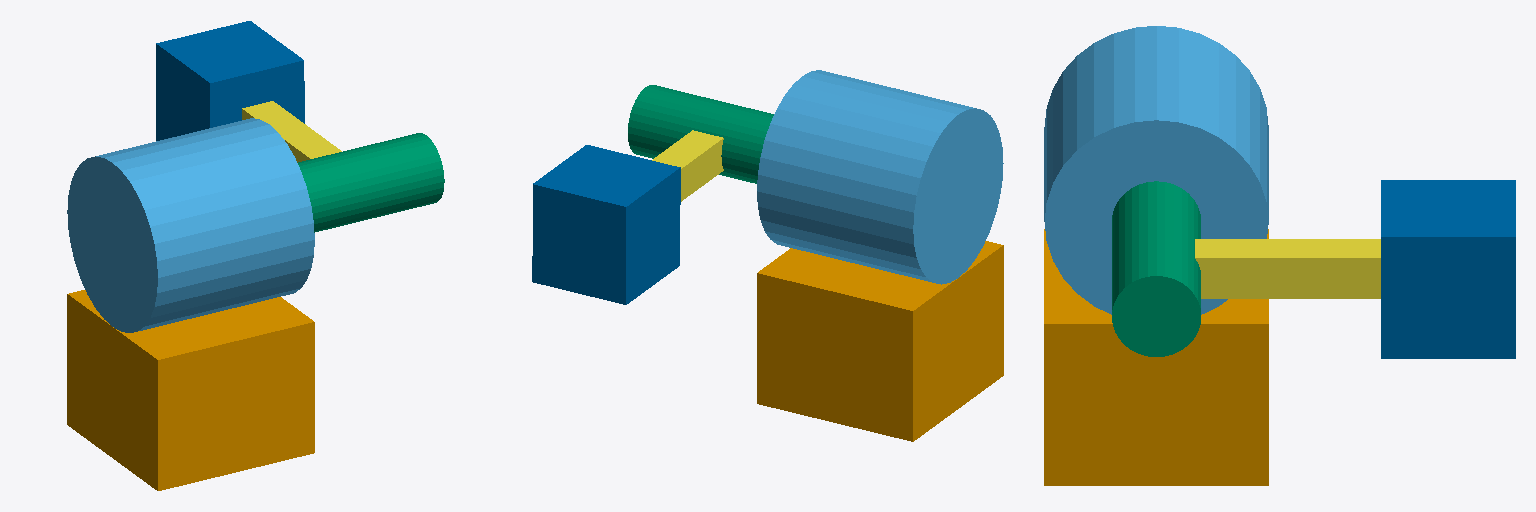
The robot description file, URDF, robot "taufinder":
<?xml version="1.0"?>
<robot name="taufinder">

<link name="base_link">
	<pose> 0 0 0 0 0 0</pose>
        <visual>
          <origin xyz="0 0 0.2" rpy="0 0 0" />
          <geometry>
            	<box size="0.5 0.5 0.4"/>
          </geometry>
        </visual>
        <inertial>
           	<mass value="3" />
            	<origin xyz="0 0 0.5" rpy="0 0 0" />
            	<inertia ixx="0.1025" iyy="0.125" izz="0.1025" ixy="0" ixz="0" iyz="0"/>
       </inertial>
      </link>

<link name="motor">
	<pose> 0 0 0 0 0 0</pose>
        <visual>
          <origin xyz="0 0 0" rpy="0 0 0" />
          <geometry>
            	<cylinder length="0.5" radius="0.25"/>
          </geometry>
        </visual>
        <inertial>
           	<mass value="1" />
            	<origin xyz="0 0 0.5" rpy="0 0 0" />
            	<inertia ixx="0.0364583" iyy="0.03645833" izz="0.03125" ixy="0" ixz="0" iyz="0"/>
       </inertial>
      </link>

<link name="motor_axis">
	<pose> 0 0 0 0 0 0</pose>
        <visual>
          <origin xyz="0 0 0" rpy="0 0 0" />
          <geometry>
            	<cylinder length="0.5" radius="0.1"/>
          </geometry>
        </visual>
        <inertial>
           	<mass value="0.2" />
            	<origin xyz="0 0 0.5" rpy="0 0 0" />
            	<inertia ixx="0.004666666" iyy="0.0046666" izz="0.001" ixy="0" ixz="0" iyz="0"/>
       </inertial>
      </link>

<link name="motor_rod">
	<pose> 0 0 0 0 0 0</pose>
        <visual>
          <origin xyz="0 0 0" rpy="0 0 0" />
          <geometry>
            	<box size="0.1 0.5 0.1"/>
          </geometry>
        </visual>
        <inertial>
           	<mass value="0.1" />
            	<origin xyz="0 0 0.5" rpy="0 0 0" />
            	<inertia ixx="0.0021666" iyy="0.0021666" izz="0.0001666" ixy="0" ixz="0" iyz="0"/>
       </inertial>
      </link>

<link name="motor_load">
	<pose> 0 0 0 0 0 0</pose>
        <visual>
          <origin xyz="0 0 0" rpy="0 0 0" />
          <geometry>
            	<box size="0.3 0.3 0.3"/>
          </geometry>
        </visual>
        <inertial>
           	<mass value="2" />
            	<origin xyz="0 0 0.5" rpy="0 0 0" />
            	<inertia ixx="0.03" iyy="0.03" izz="0.03" ixy="0" ixz="0" iyz="0"/>
       </inertial>
      </link>

<joint name ="motor" type="fixed">
        <origin xyz="0 0 0.650" rpy="0 1.57 0"/>
        <parent link="base_link"/>
        <child link="motor"/>
</joint>

<joint name ="motor_axis_joint" type="continuous">
        <origin xyz="0 0 0.5" rpy="0 0 0"/>
        <parent link="motor"/>
        <child link="motor_axis"/>
</joint>

<joint name ="motor_rod" type="fixed">
        <origin xyz="0 0.25 0" rpy="0 0 0"/>
        <parent link="motor_axis"/>
        <child link="motor_rod"/>
</joint>

<joint name ="motor_load" type="fixed">
        <origin xyz="0 0.4 0" rpy="0 0 0"/>
        <parent link="motor_rod"/>
        <child link="motor_load"/>
</joint>


</robot>

--- What the picture shows (computed from the rendered views, not written in the file) ---
The picture shows the robot from 3 angles, left to right: view 1: azimuth 30°, elevation 25°; view 2: azimuth 150°, elevation 25°; view 3: azimuth 270°, elevation 25°; orthographic projection.
Model taufinder with 5 links and 4 joints (1 continuous, 3 fixed), rooted at base_link, posed every joint at zero.
Links seen in each view (by area): view 1: motor, base_link, motor_load, motor_axis, motor_rod; view 2: motor, base_link, motor_load, motor_axis, motor_rod; view 3: motor, base_link, motor_load, motor_axis, motor_rod.
Link boxes in pixels (x1,y1,x2,y2): motor: [67, 118, 314, 332]; base_link: [67, 290, 314, 490]; motor_load: [156, 21, 304, 140]; motor_axis: [298, 133, 444, 232]; motor_rod: [242, 101, 341, 162]; motor: [757, 70, 1003, 284]; base_link: [757, 241, 1003, 441]; motor_load: [532, 145, 680, 304]; motor_axis: [628, 85, 773, 183]; motor_rod: [652, 130, 723, 201]; motor: [1044, 26, 1268, 314]; base_link: [1044, 229, 1268, 485]; motor_load: [1381, 180, 1515, 358]; motor_axis: [1112, 181, 1200, 356]; motor_rod: [1195, 239, 1380, 298].
Bounding box of the posed robot: 1 × 1.05 × 0.9002 m (x, y, z).
Geometry: primitives only (box / cylinder / sphere), no mesh files.
